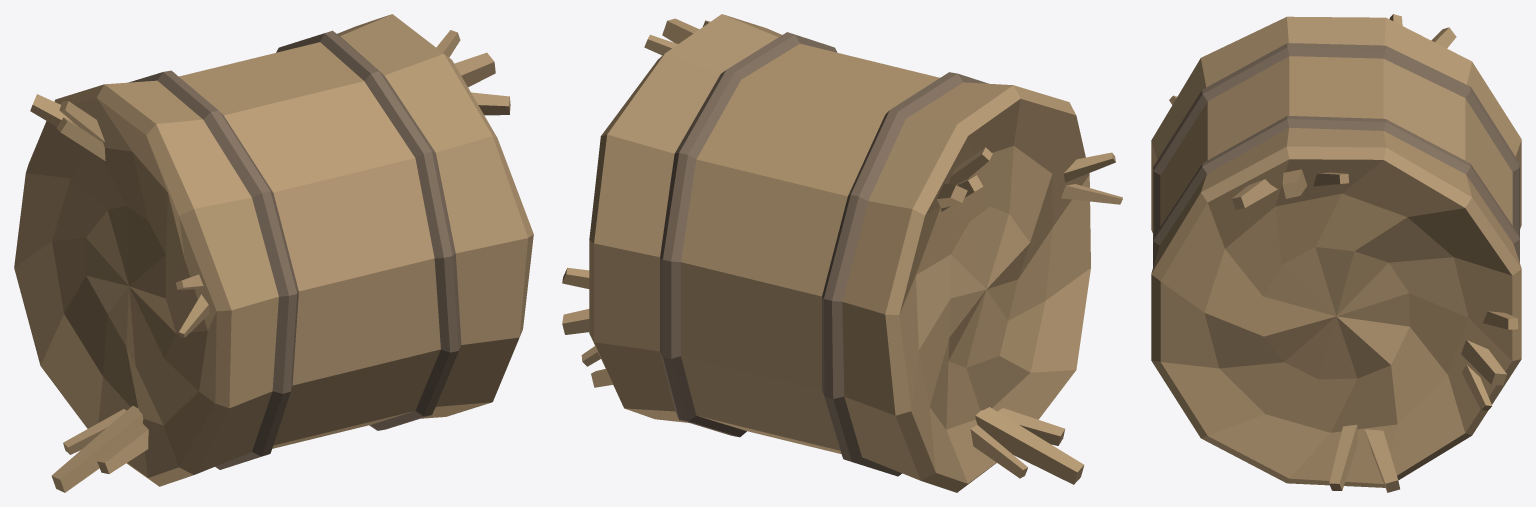
File: castle_hay.gltf
3 renders of one model, left to right at view 1: azimuth 30°, elevation 25°; view 2: azimuth 150°, elevation 25°; view 3: azimuth 270°, elevation 25°, orthographic. The views are drawn at different scales.
Parts seen in each view (by area): view 1: castle_hay; view 2: castle_hay; view 3: castle_hay.
Boxes of the visible parts, box(x1,y1,x2,y2) form: castle_hay: box(14, 14, 533, 492); castle_hay: box(562, 14, 1122, 492); castle_hay: box(1151, 14, 1521, 492).
Bounding box in the file's own units: 1.38 × 1.08 × 1.08.
Materials: 1 (1 with a texture image).
